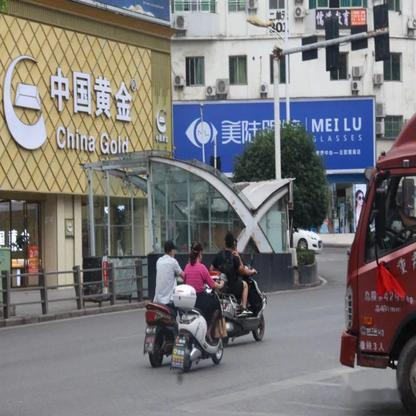target: (173, 241, 223, 367), (212, 236, 269, 342), (141, 239, 179, 366)
